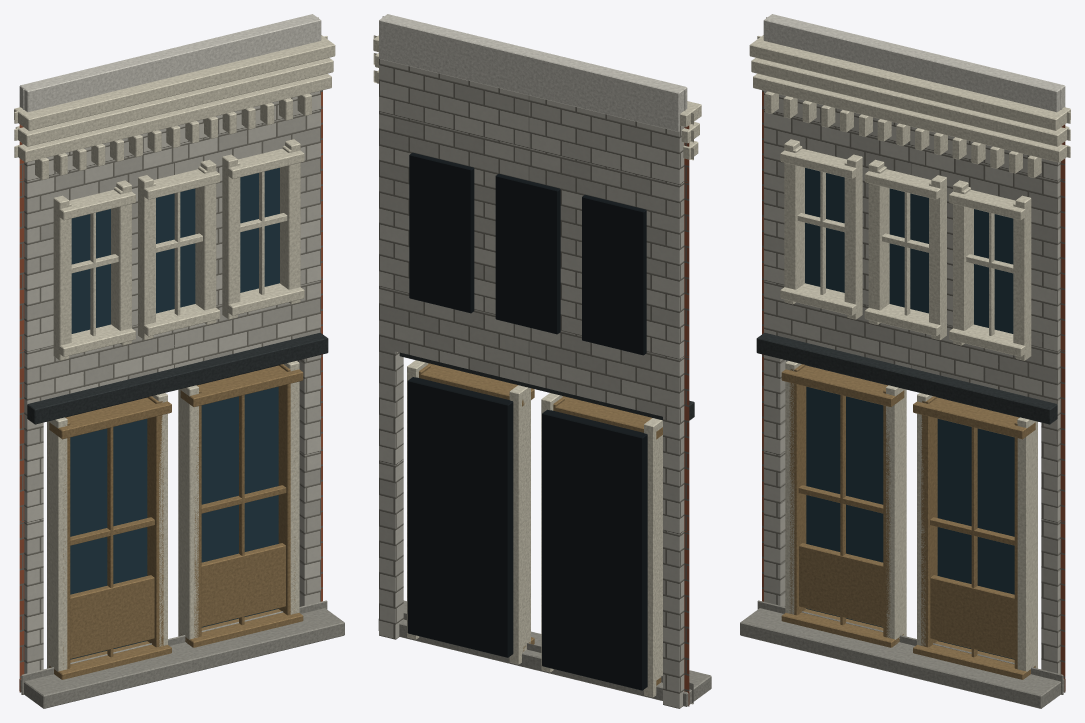
File: CLSTGA13_lod1.glb
3 renders of one model, left to right at view 1: azimuth 30°, elevation 25°; view 2: azimuth 150°, elevation 25°; view 3: azimuth 330°, elevation 25°, orthographic. The views are drawn at different scales.
Visible parts, largest first — view 1: CLSTGA13_FRONT_LOD1; view 2: CLSTGA13_FRONT_LOD1; view 3: CLSTGA13_FRONT_LOD1.
Part boxes in pixels (left/top/right/bottom): CLSTGA13_FRONT_LOD1: left=14, top=14, right=344, bottom=708; CLSTGA13_FRONT_LOD1: left=373, top=14, right=711, bottom=708; CLSTGA13_FRONT_LOD1: left=740, top=14, right=1070, bottom=708.
Size of the model in its own units: 3.84 by 7.05 by 0.68.
Materials: 10 (8 with a texture image).
